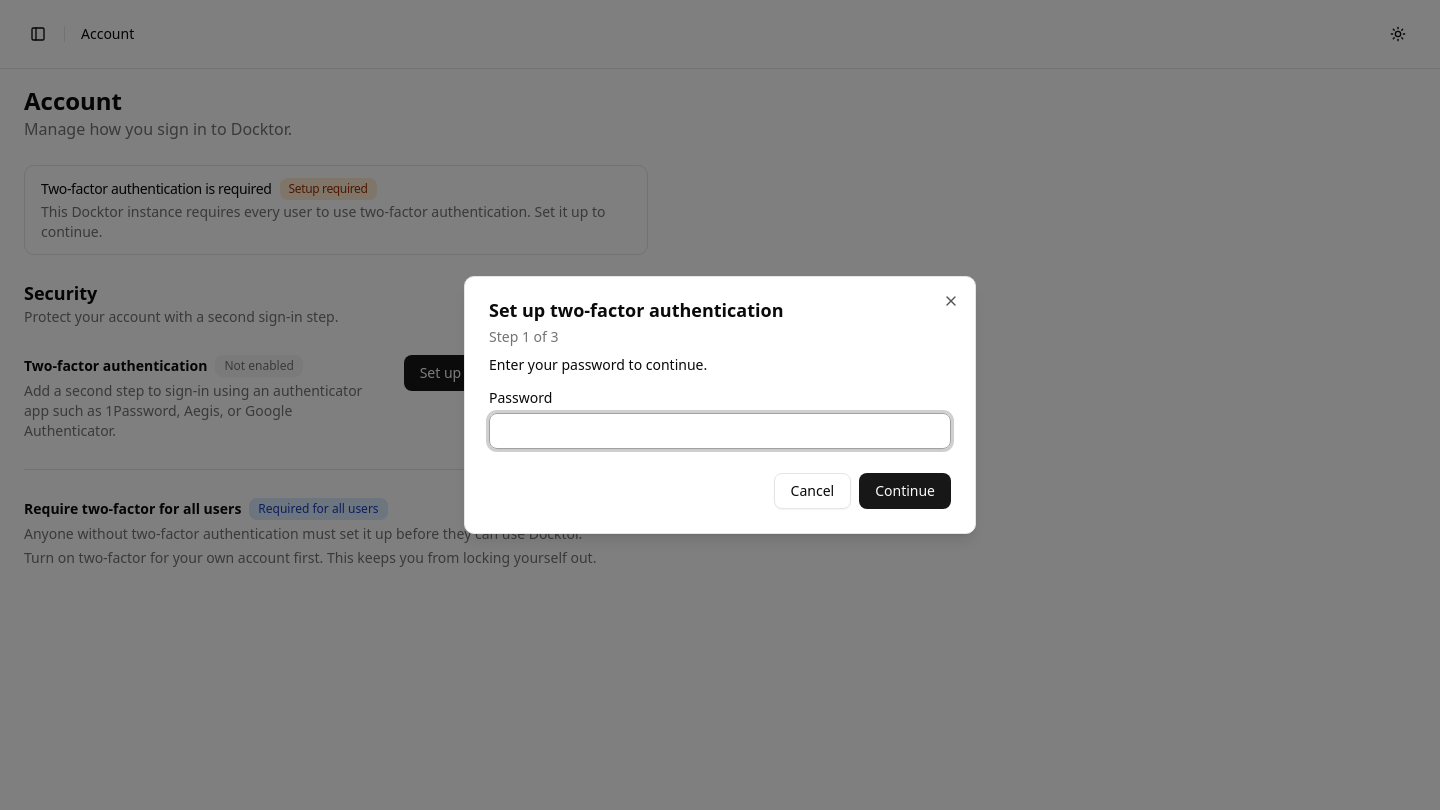
Test: AccountPage › when enrollment is required › leaves the setup button after closing and does not reopen on rerender
Check: the dialog is shown, box [464,276,976,534]
Click the button "Cancel" at (812, 491), box [774,473,851,509]
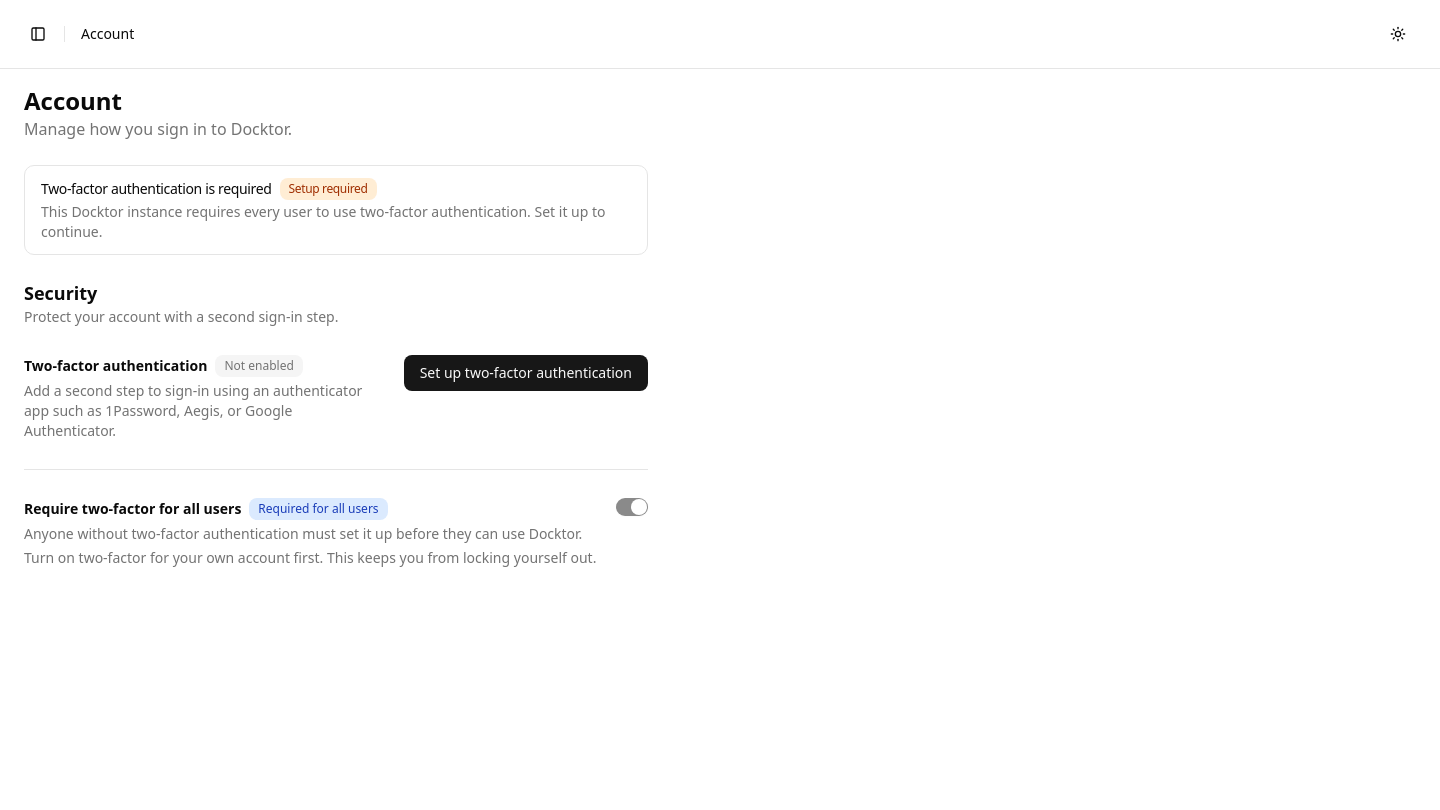
Check: the button "Set up two-factor authentication" is shown, box [404,355,648,391]
Check: the dialog is gone
